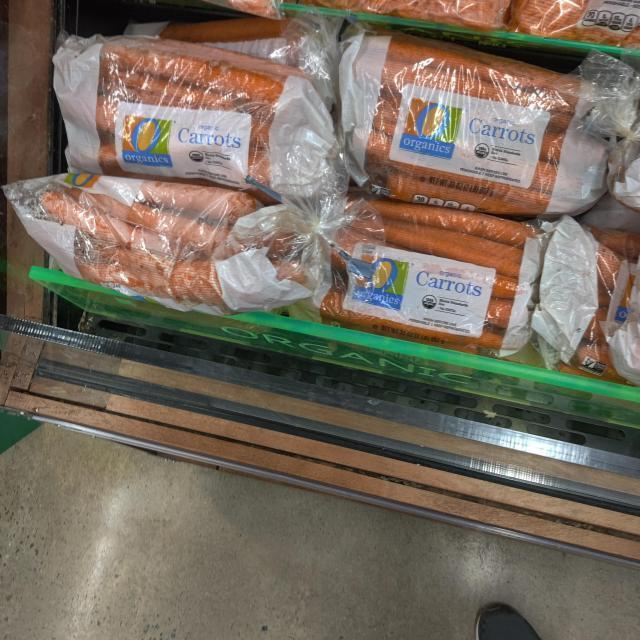Carrots: (289, 175, 601, 374), (40, 21, 355, 206), (321, 28, 609, 220), (14, 177, 330, 330)
